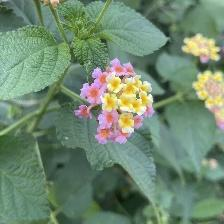common lanthana: (77, 52, 155, 148)
